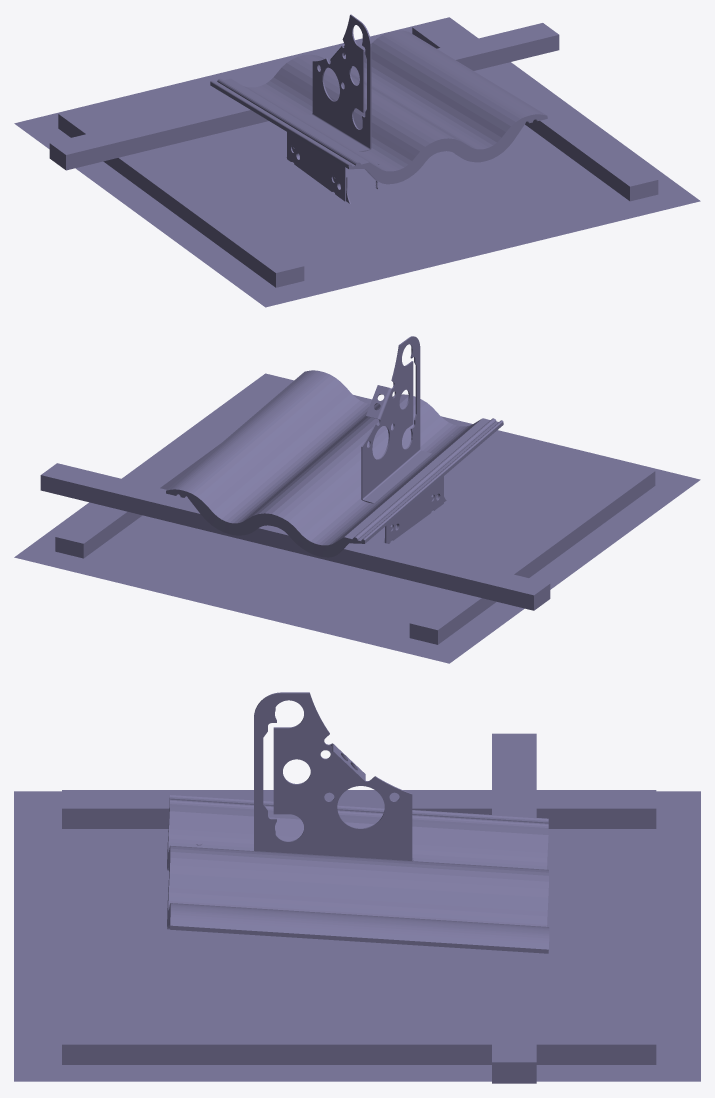
File: Konsol_CWL_V5.glb
3 views of the same model, one above another, from view 1: azimuth 30°, elevation 25°; view 2: azimuth 150°, elevation 25°; view 3: azimuth 270°, elevation 25° (orthographic). The views are drawn at different scales.
Visible parts, largest first — view 1: Plane, takPanna betong, Läkt 36x48, Läkt 36x48.001, 420073-1, Läkt 36x48.002; view 2: Plane, takPanna betong, Läkt 36x48, Läkt 36x48.001, 420073-1, Läkt 36x48.002; view 3: Plane, takPanna betong, Läkt 36x48.002, 420073-1, Läkt 36x48.001, Läkt 36x48.
Boxes of the visible parts, box(x1,y1,x2,y2) form: Plane: box(14, 17, 700, 307); takPanna betong: box(210, 30, 547, 184); Läkt 36x48: box(49, 23, 559, 170); Läkt 36x48.001: box(58, 107, 304, 287); 420073-1: box(287, 14, 371, 201); Läkt 36x48.002: box(412, 20, 658, 201); Plane: box(14, 373, 700, 663); takPanna betong: box(166, 370, 503, 557); Läkt 36x48: box(40, 463, 550, 610); Läkt 36x48.001: box(409, 464, 655, 644); 420073-1: box(361, 336, 443, 543); Läkt 36x48.002: box(55, 377, 291, 558); Plane: box(14, 791, 700, 1081); takPanna betong: box(167, 794, 549, 953); Läkt 36x48.002: box(62, 1026, 656, 1064); 420073-1: box(254, 692, 413, 860); Läkt 36x48.001: box(62, 790, 656, 828); Läkt 36x48: box(492, 733, 536, 1083).
Bounding box in the file's own units: 2.73 × 0.9803 × 2.41.
